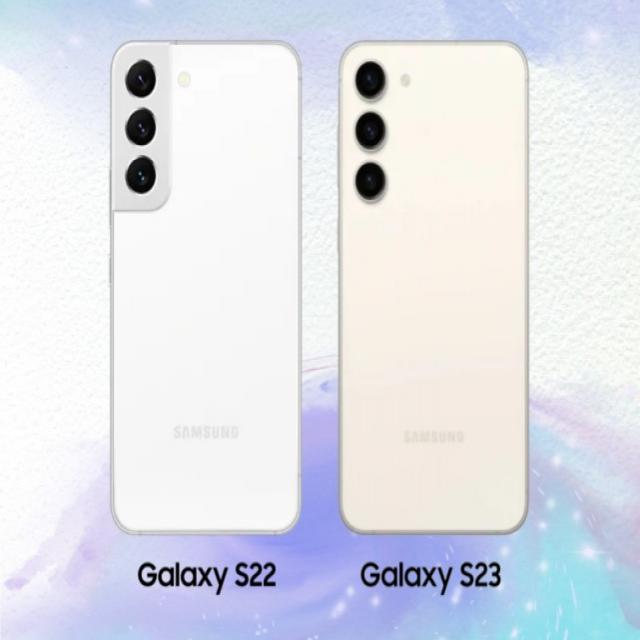phone: (110, 39, 302, 534), (338, 40, 528, 532)
